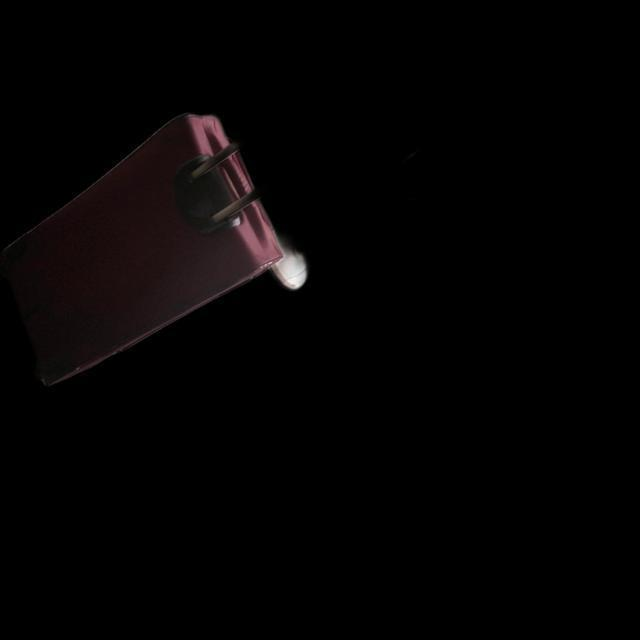Suitcase: (3, 108, 322, 386)
